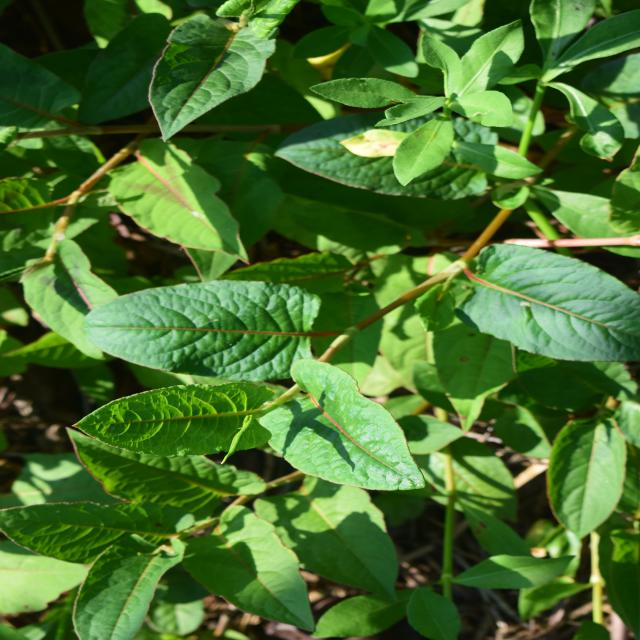Chinese_knotweed: (161, 101, 398, 608)
